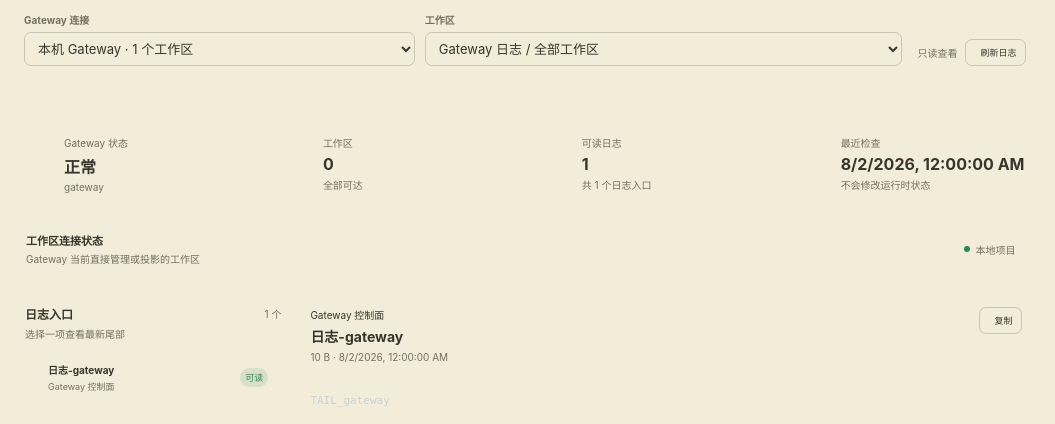
Test: 刷新失败保留上次诊断快照并使用固定反馈槽
This screenshot has width=1055, height=424.
Click the button "刷新日志": (996, 52) [966,39,1026,66]
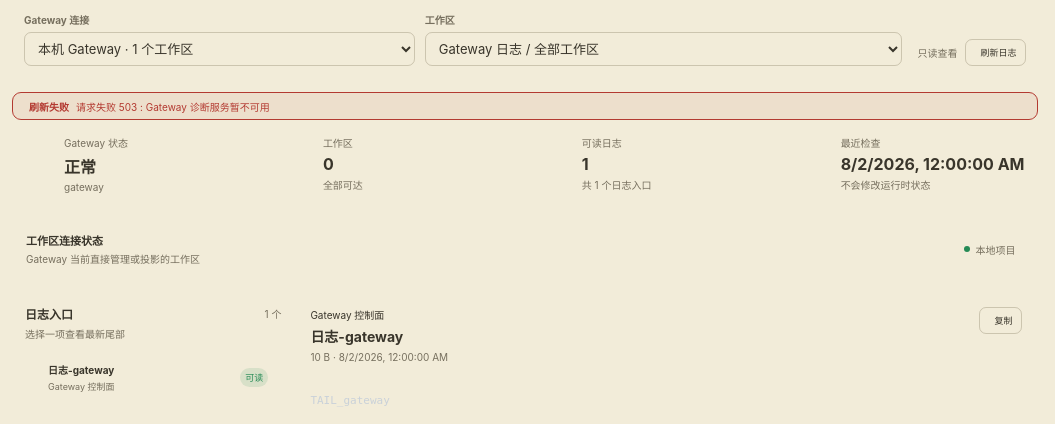
Expected: the element showing "刷新失败 请求失败 503 : Gateway 诊断服务暂不可用" is shown, [12,92,1038,122]
Now the number of messages is 1, box [12,92,1038,120]
